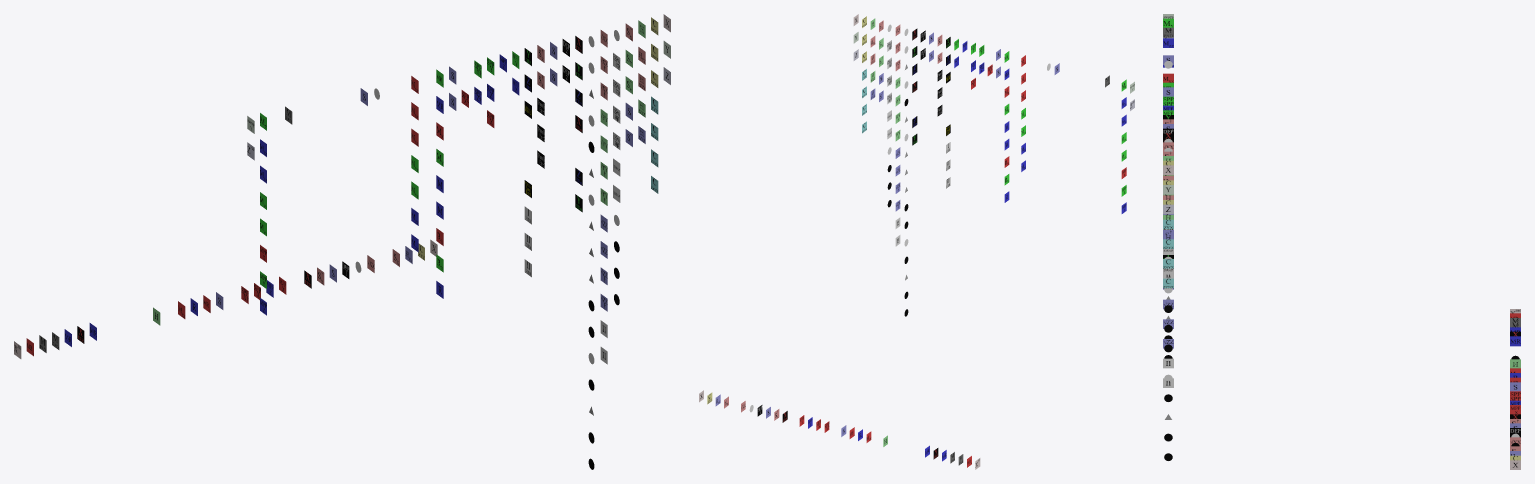
File: circuit_all_ops_3d.macos.gltf
The picture shows the model from 3 angles, left to right: view 1: azimuth 30°, elevation 25°; view 2: azimuth 150°, elevation 25°; view 3: azimuth 270°, elevation 25°; orthographic projection. The views are drawn at different scales.
Bounding box in the file's own units: 33 × 32.9 × 33.
6 materials, 1 textured.
